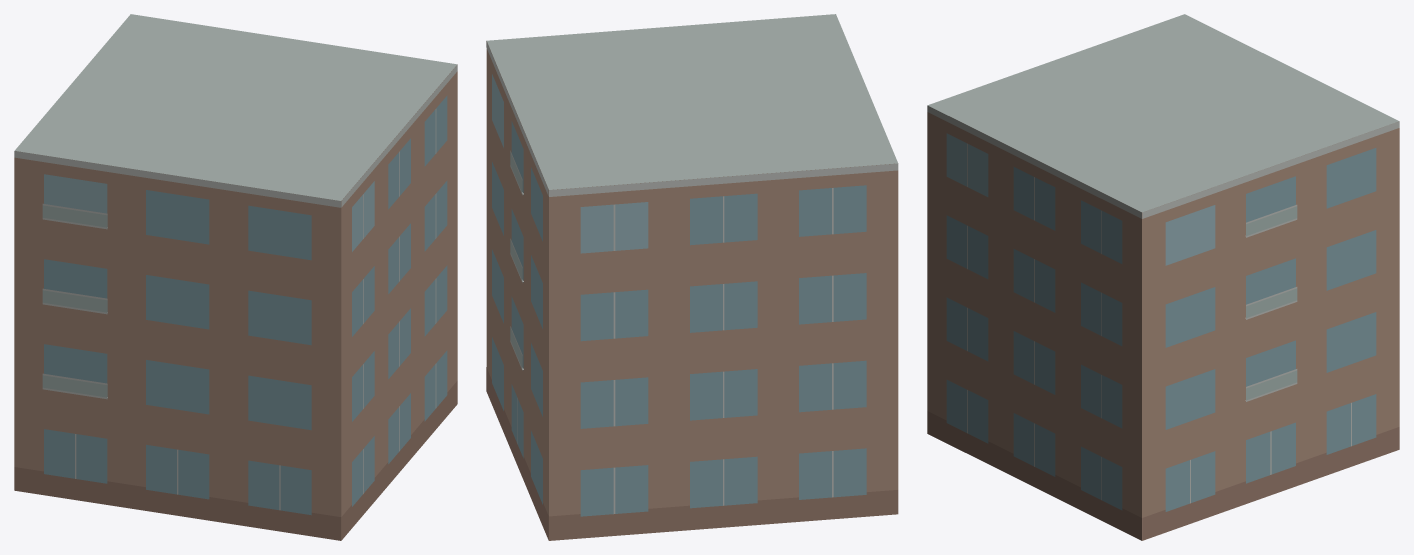
The model's file is survey-upis-32955691.glb.
The picture shows the model from 3 angles, left to right: view 1: azimuth 30°, elevation 25°; view 2: azimuth 150°, elevation 25°; view 3: azimuth 270°, elevation 25°; orthographic projection. The views are drawn at different scales.
Visible parts, largest first — view 1: survey-upis-32955691.tmp; view 2: survey-upis-32955691.tmp; view 3: survey-upis-32955691.tmp.
Boxes of the visible parts, x1=… form: survey-upis-32955691.tmp: x1=14, y1=14, x2=457, y2=540; survey-upis-32955691.tmp: x1=486, y1=14, x2=898, y2=540; survey-upis-32955691.tmp: x1=927, y1=14, x2=1399, y2=540.
Size of the model in its own units: 15.82 by 12.2 by 15.9.
